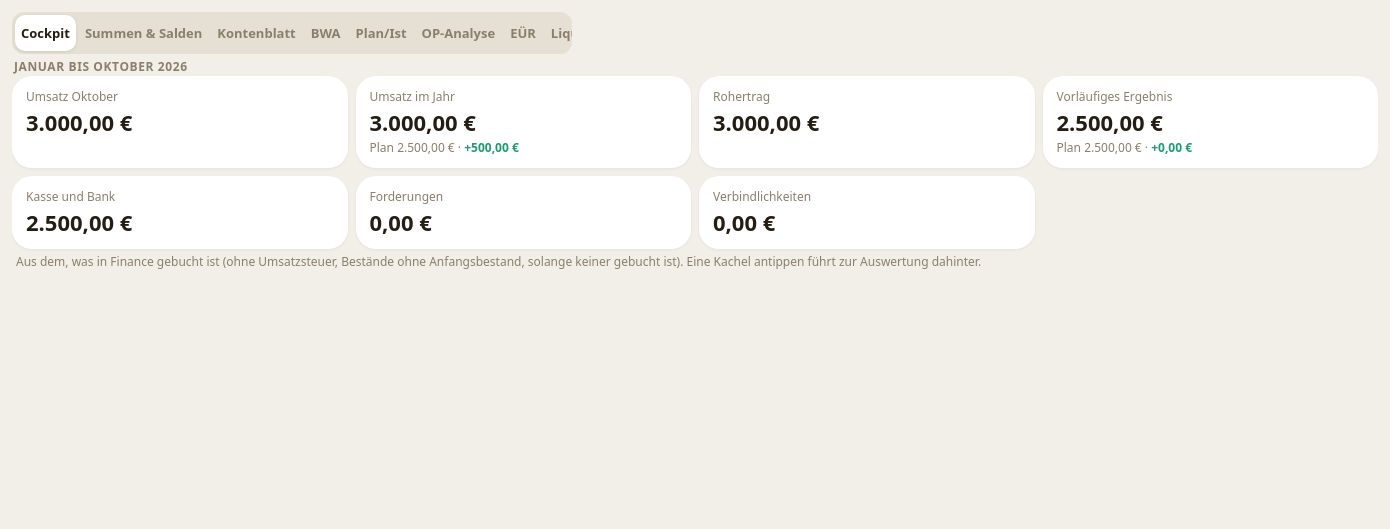
Scenario: Auswertungen Stufe G › OP-Analyse: gestaffelt nach Tagen über der Fälligkeit
Click the tab "OP-Analyse" at (458, 33), box [416,15,501,51]
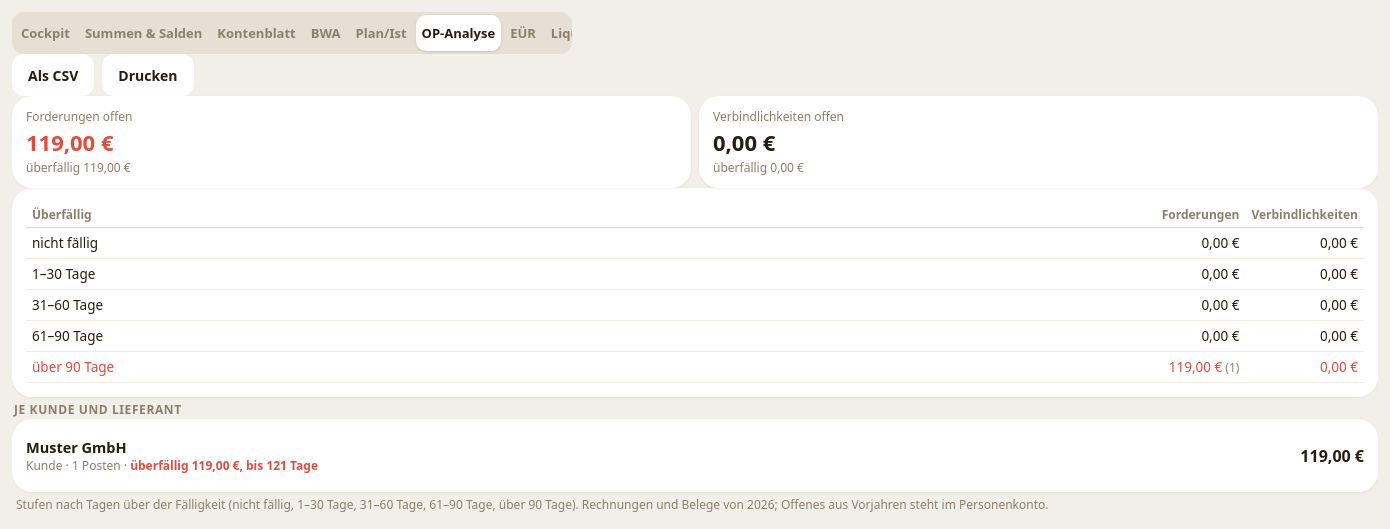
Now the text "über 90 Tage" reads "über 90 Tage 119,00 € (1) 0,00 €", box [1169,358,1222,376]
Now the text "Muster GmbH" is shown, box [26,437,127,457]
